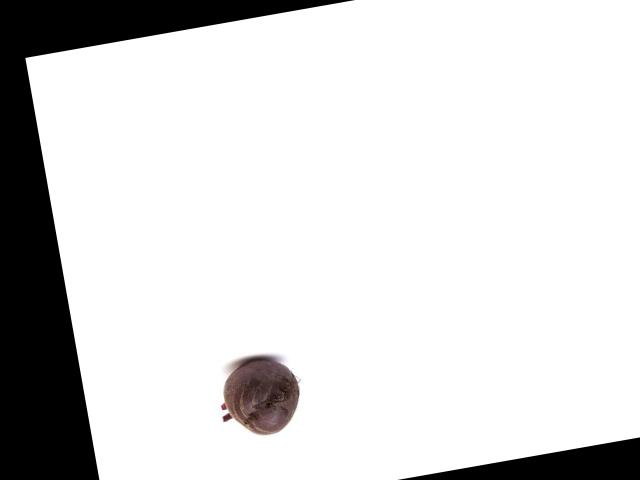beet: (214, 351, 306, 442)
